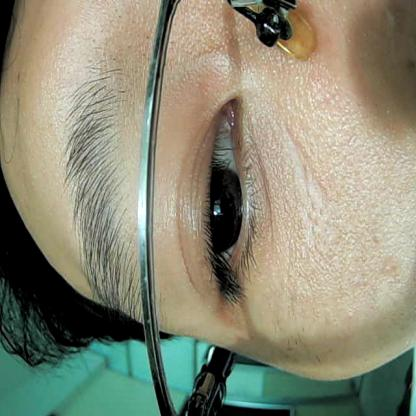Down: (174, 86, 271, 309)
